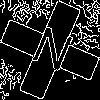N: (25, 25, 76, 81)
